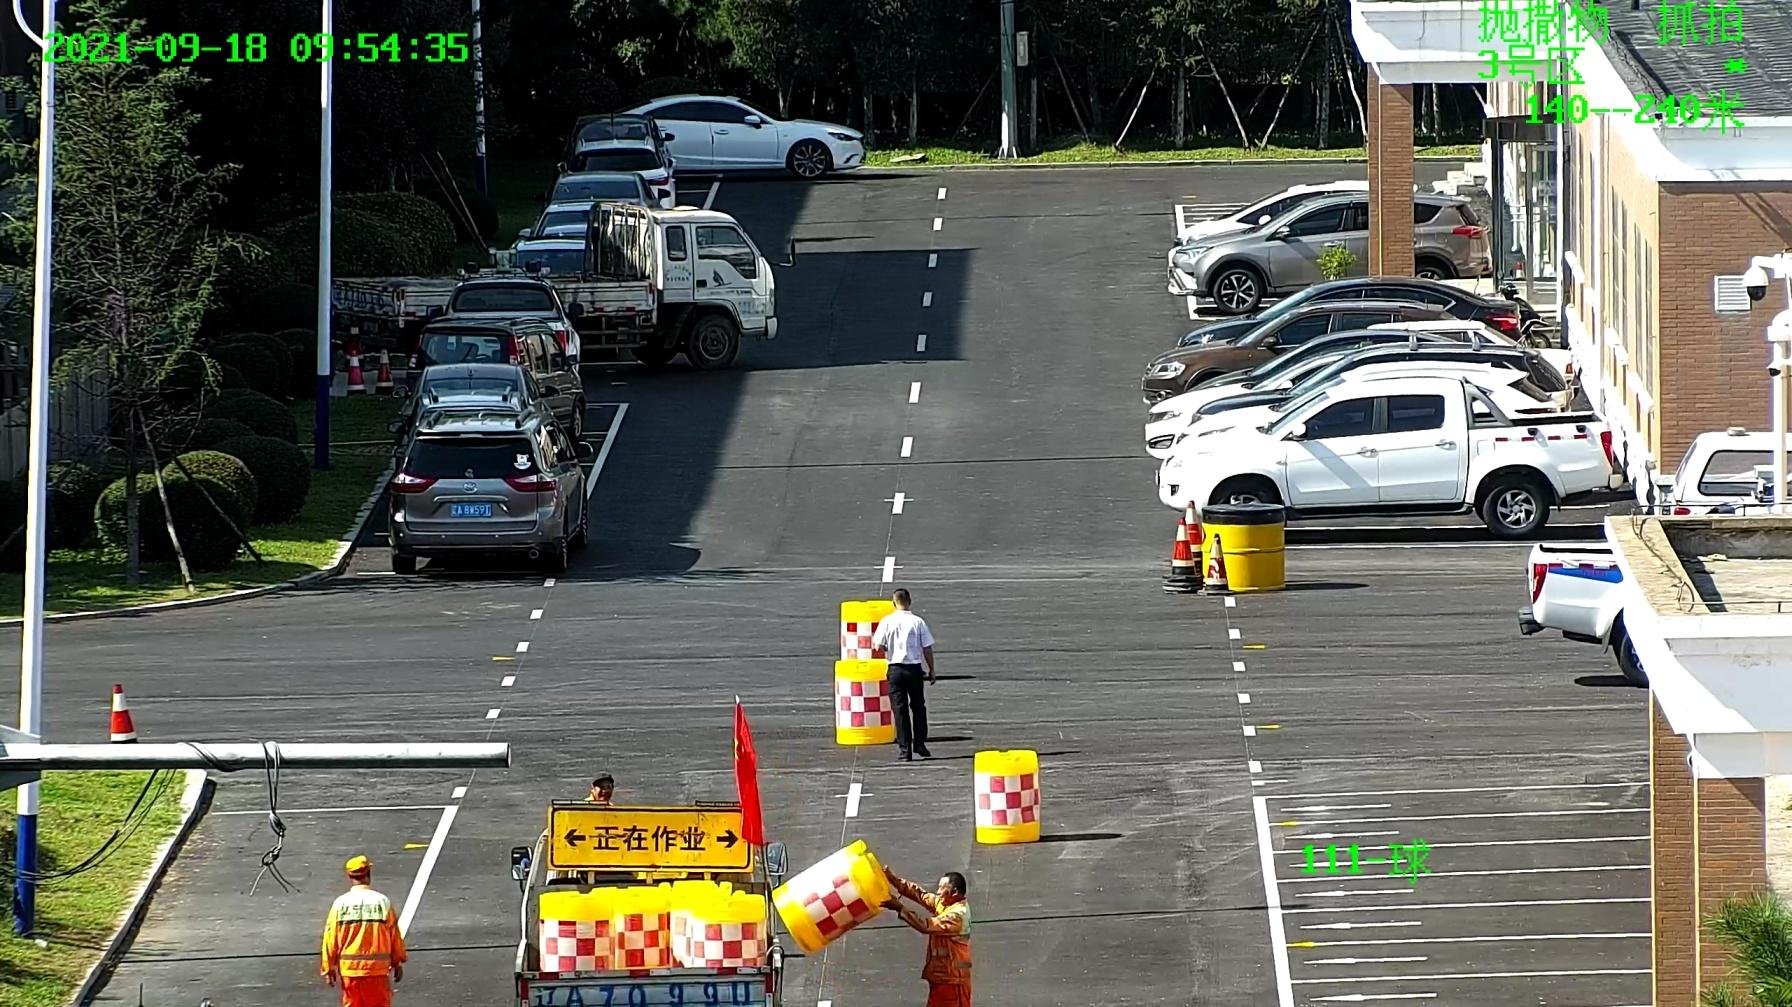cone_barrel: (772, 845, 906, 958), (679, 888, 766, 973), (974, 752, 1041, 845), (537, 889, 609, 973), (832, 662, 896, 747), (610, 888, 670, 971), (837, 597, 890, 660)
